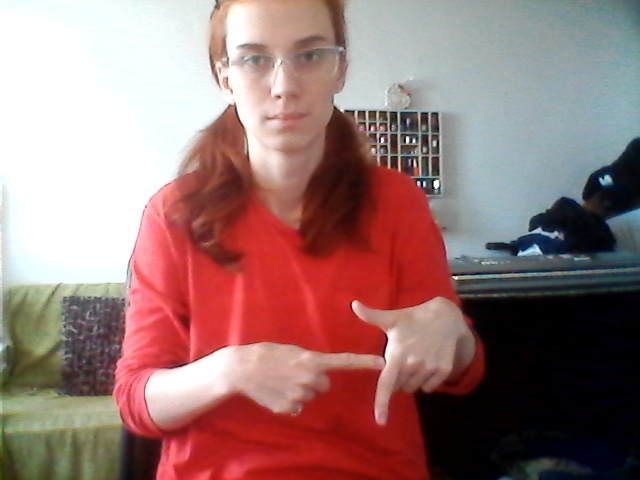f: (249, 292, 475, 444)
